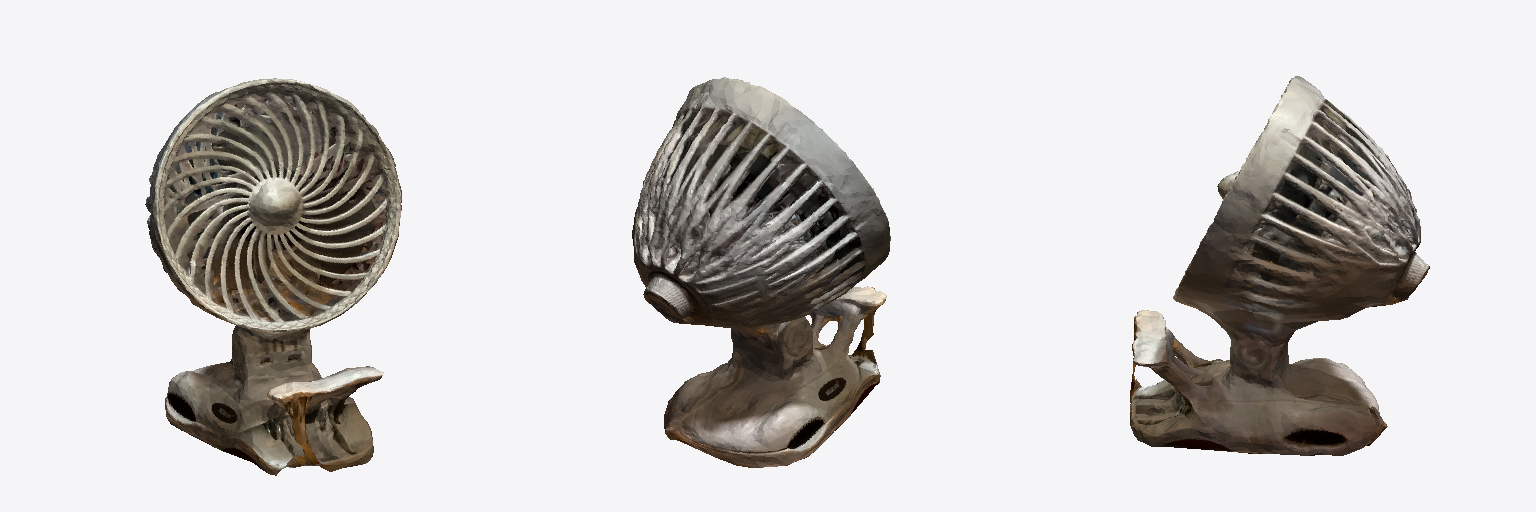
3 renders of one model, left to right at view 1: azimuth 30°, elevation 25°; view 2: azimuth 150°, elevation 25°; view 3: azimuth 270°, elevation 25°, orthographic.
Size of the model in its own units: 0.1235 by 0.1824 by 0.1453.
1 materials, 1 textured.